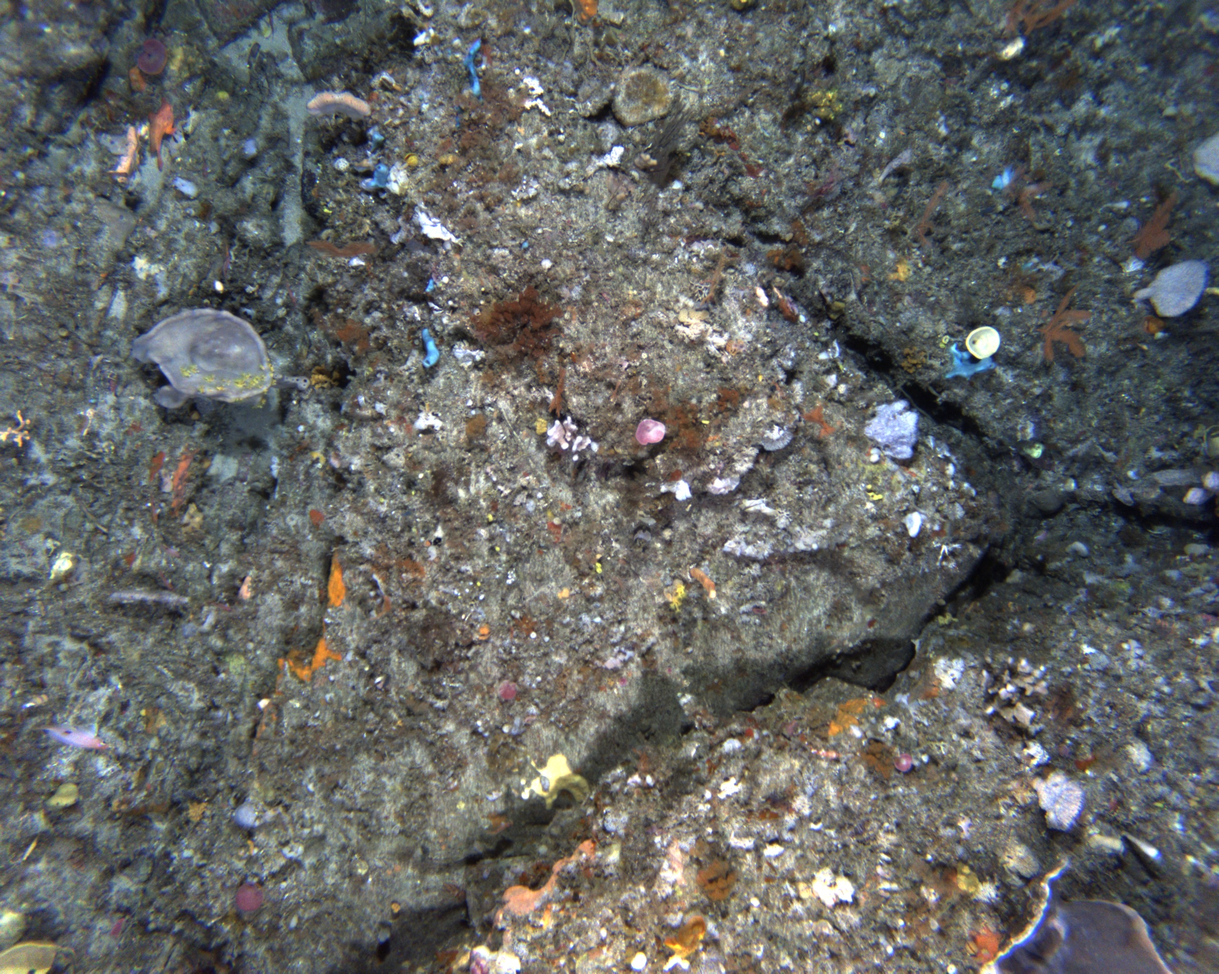Brachionichthyidae: (144, 96, 180, 172)
